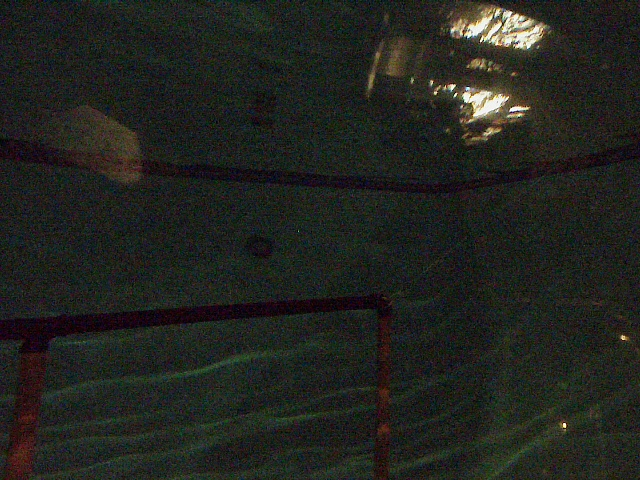Gate: (1, 352, 51, 477), (374, 310, 395, 480)
